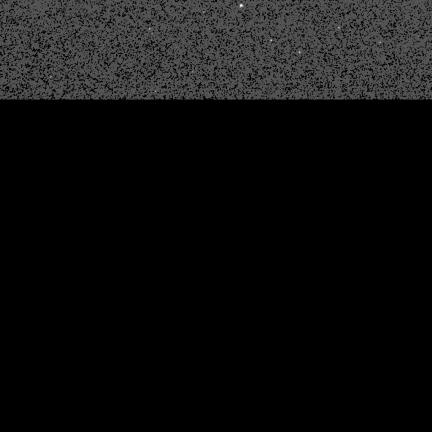blob: (240, 4, 244, 8)
